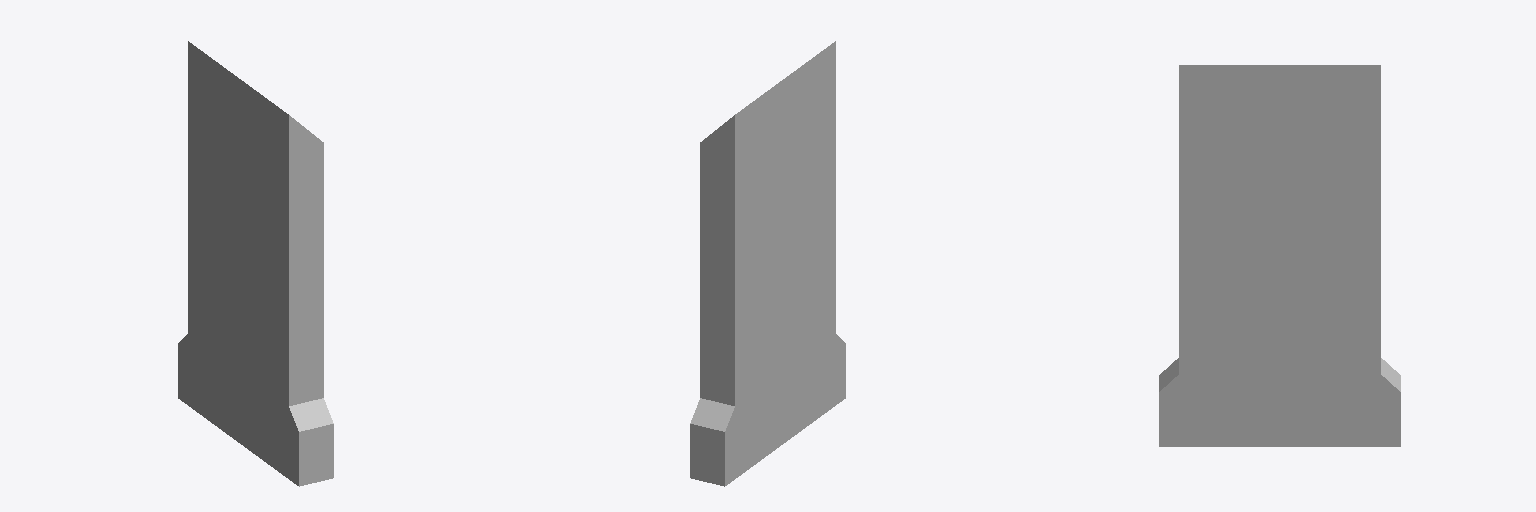
Rendered from door_left.obj.
3 views of the same model, side by side, from view 1: azimuth 30°, elevation 25°; view 2: azimuth 150°, elevation 25°; view 3: azimuth 270°, elevation 25° (orthographic).
Parts seen in each view (by area): view 1: door_left; view 2: door_left; view 3: door_left.
Part boxes in pixels (bbox=[...]): door_left: bbox=[178, 41, 333, 486]; door_left: bbox=[690, 41, 845, 486]; door_left: bbox=[1159, 65, 1400, 446].
Bounding box in the file's own units: 0.1 × 1 × 0.6.